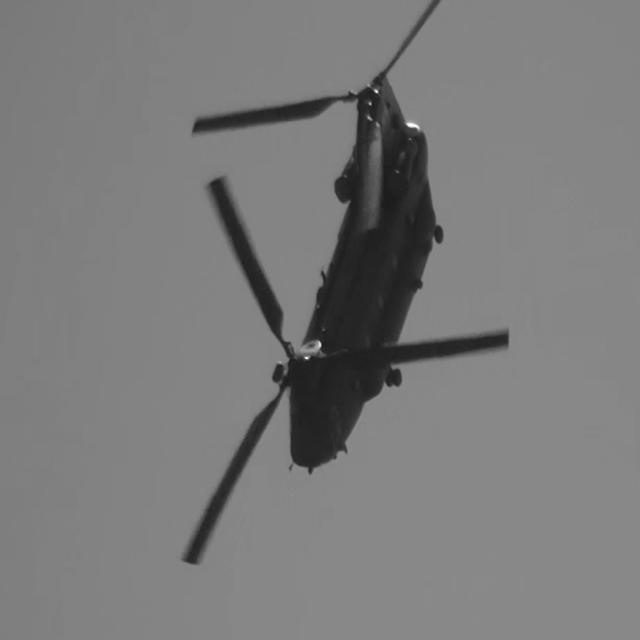Helicopter: (182, 0, 508, 563)
